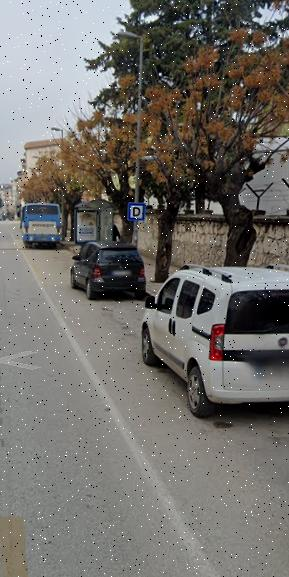station: (130, 204, 144, 218)
